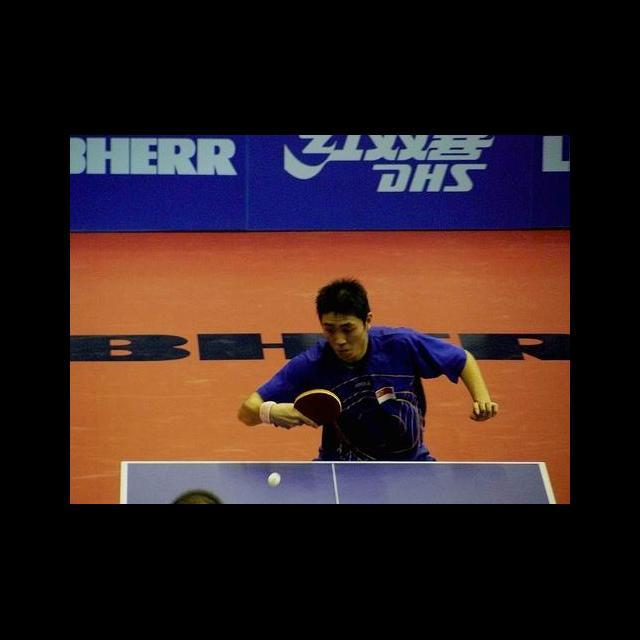ping-pong-ball: (266, 474, 282, 488)
